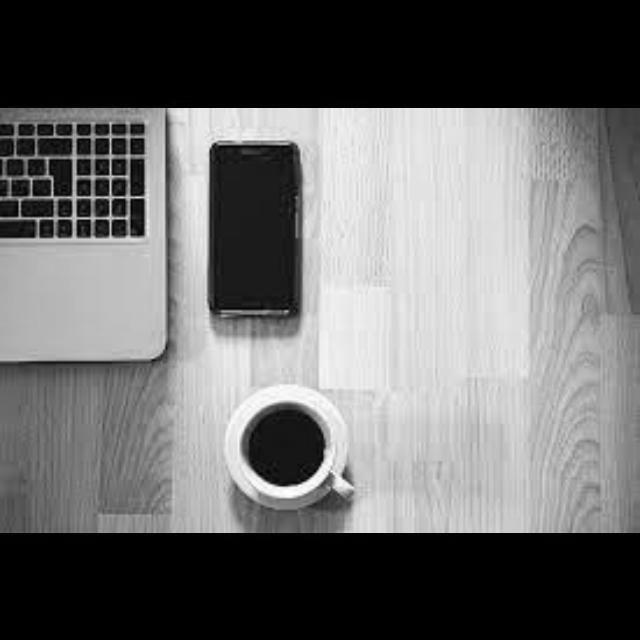fake: (208, 140, 304, 326)
